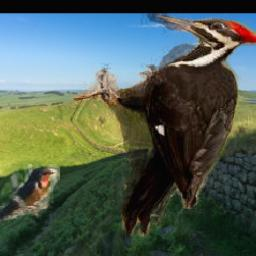Swallow: (0, 165, 59, 232)
Woodpecker: (74, 13, 256, 237)
